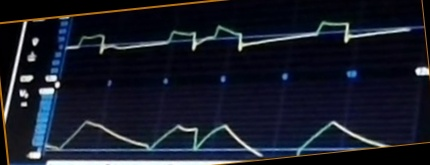Double_Triggering Flow: (71, 18, 403, 63)
Double_Triggering Volume: (52, 108, 390, 157)
